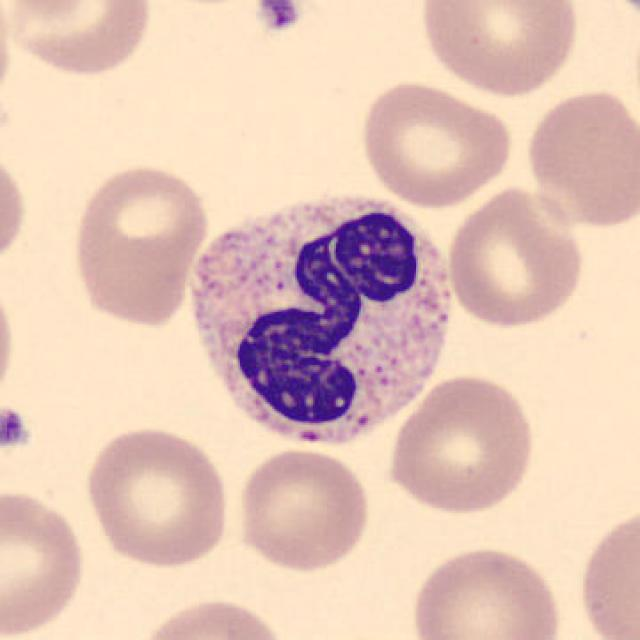Neutrophil: (176, 183, 466, 462)
Platelets: (254, 0, 304, 35), (0, 404, 34, 455)
RBC: (67, 158, 212, 330), (384, 370, 539, 517), (80, 423, 233, 571), (442, 182, 588, 332), (356, 78, 516, 210), (233, 444, 373, 575), (521, 83, 638, 233), (414, 0, 585, 99), (405, 541, 569, 640), (0, 483, 89, 640), (1, 0, 158, 79), (574, 499, 638, 640), (132, 594, 290, 640), (0, 145, 30, 275), (0, 270, 20, 414), (0, 2, 16, 116), (586, 0, 640, 28)
